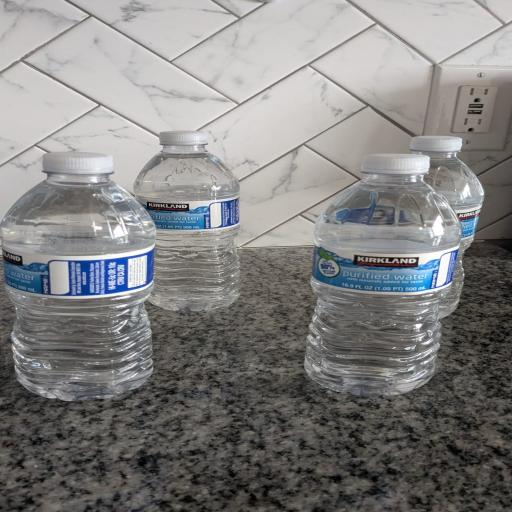waterbottle: (0, 153, 155, 400), (305, 155, 460, 396), (134, 132, 240, 311), (410, 136, 484, 318)
